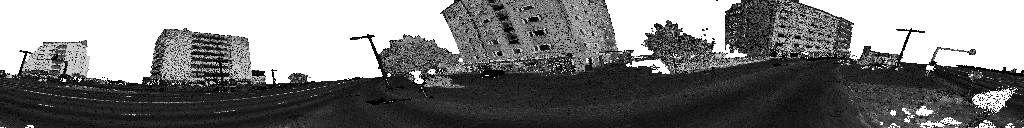gantry_sign_pole: (925, 48, 975, 78), (51, 55, 67, 87)
light_pole: (350, 35, 392, 93), (892, 29, 924, 72), (15, 52, 32, 80), (217, 59, 223, 88), (271, 70, 276, 85)
traffic_pole: (964, 88, 1014, 127), (964, 69, 982, 103), (407, 71, 427, 98), (71, 75, 78, 87), (849, 56, 857, 65)
